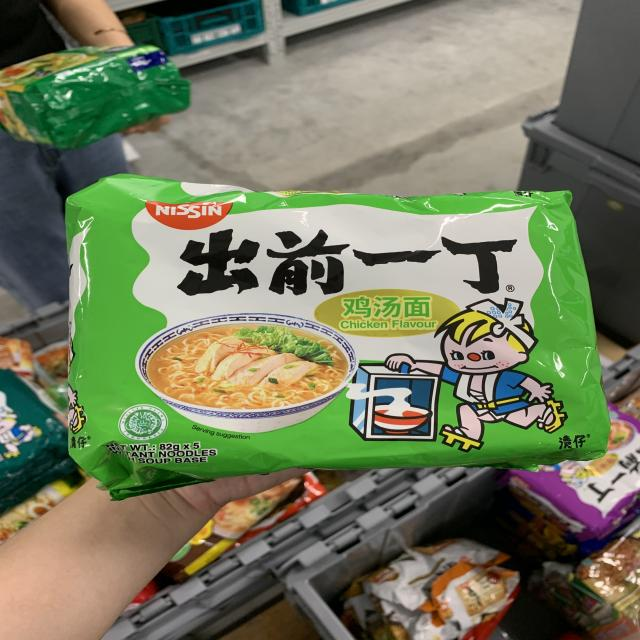object_name: (74, 184, 589, 460)
